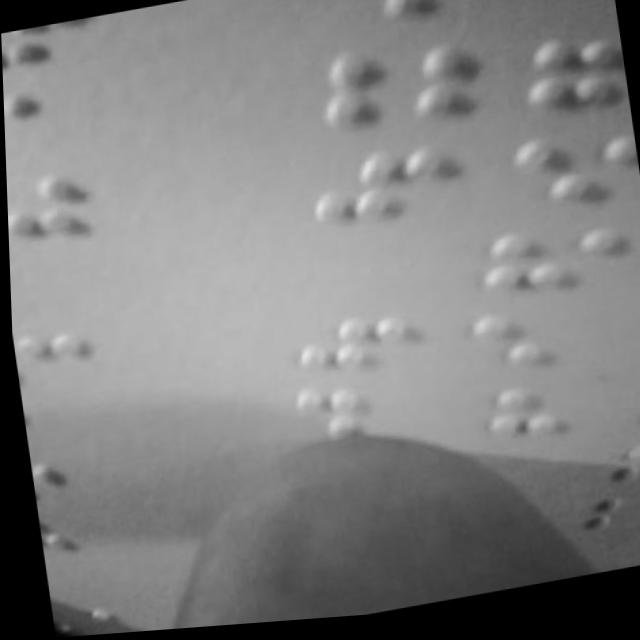braiile: (302, 39, 478, 146), (303, 143, 457, 241), (468, 220, 623, 312), (496, 121, 640, 219), (282, 301, 425, 391), (460, 299, 606, 387), (2, 79, 89, 164), (1, 16, 103, 78), (325, 0, 483, 40), (9, 315, 92, 390), (17, 381, 97, 451)
